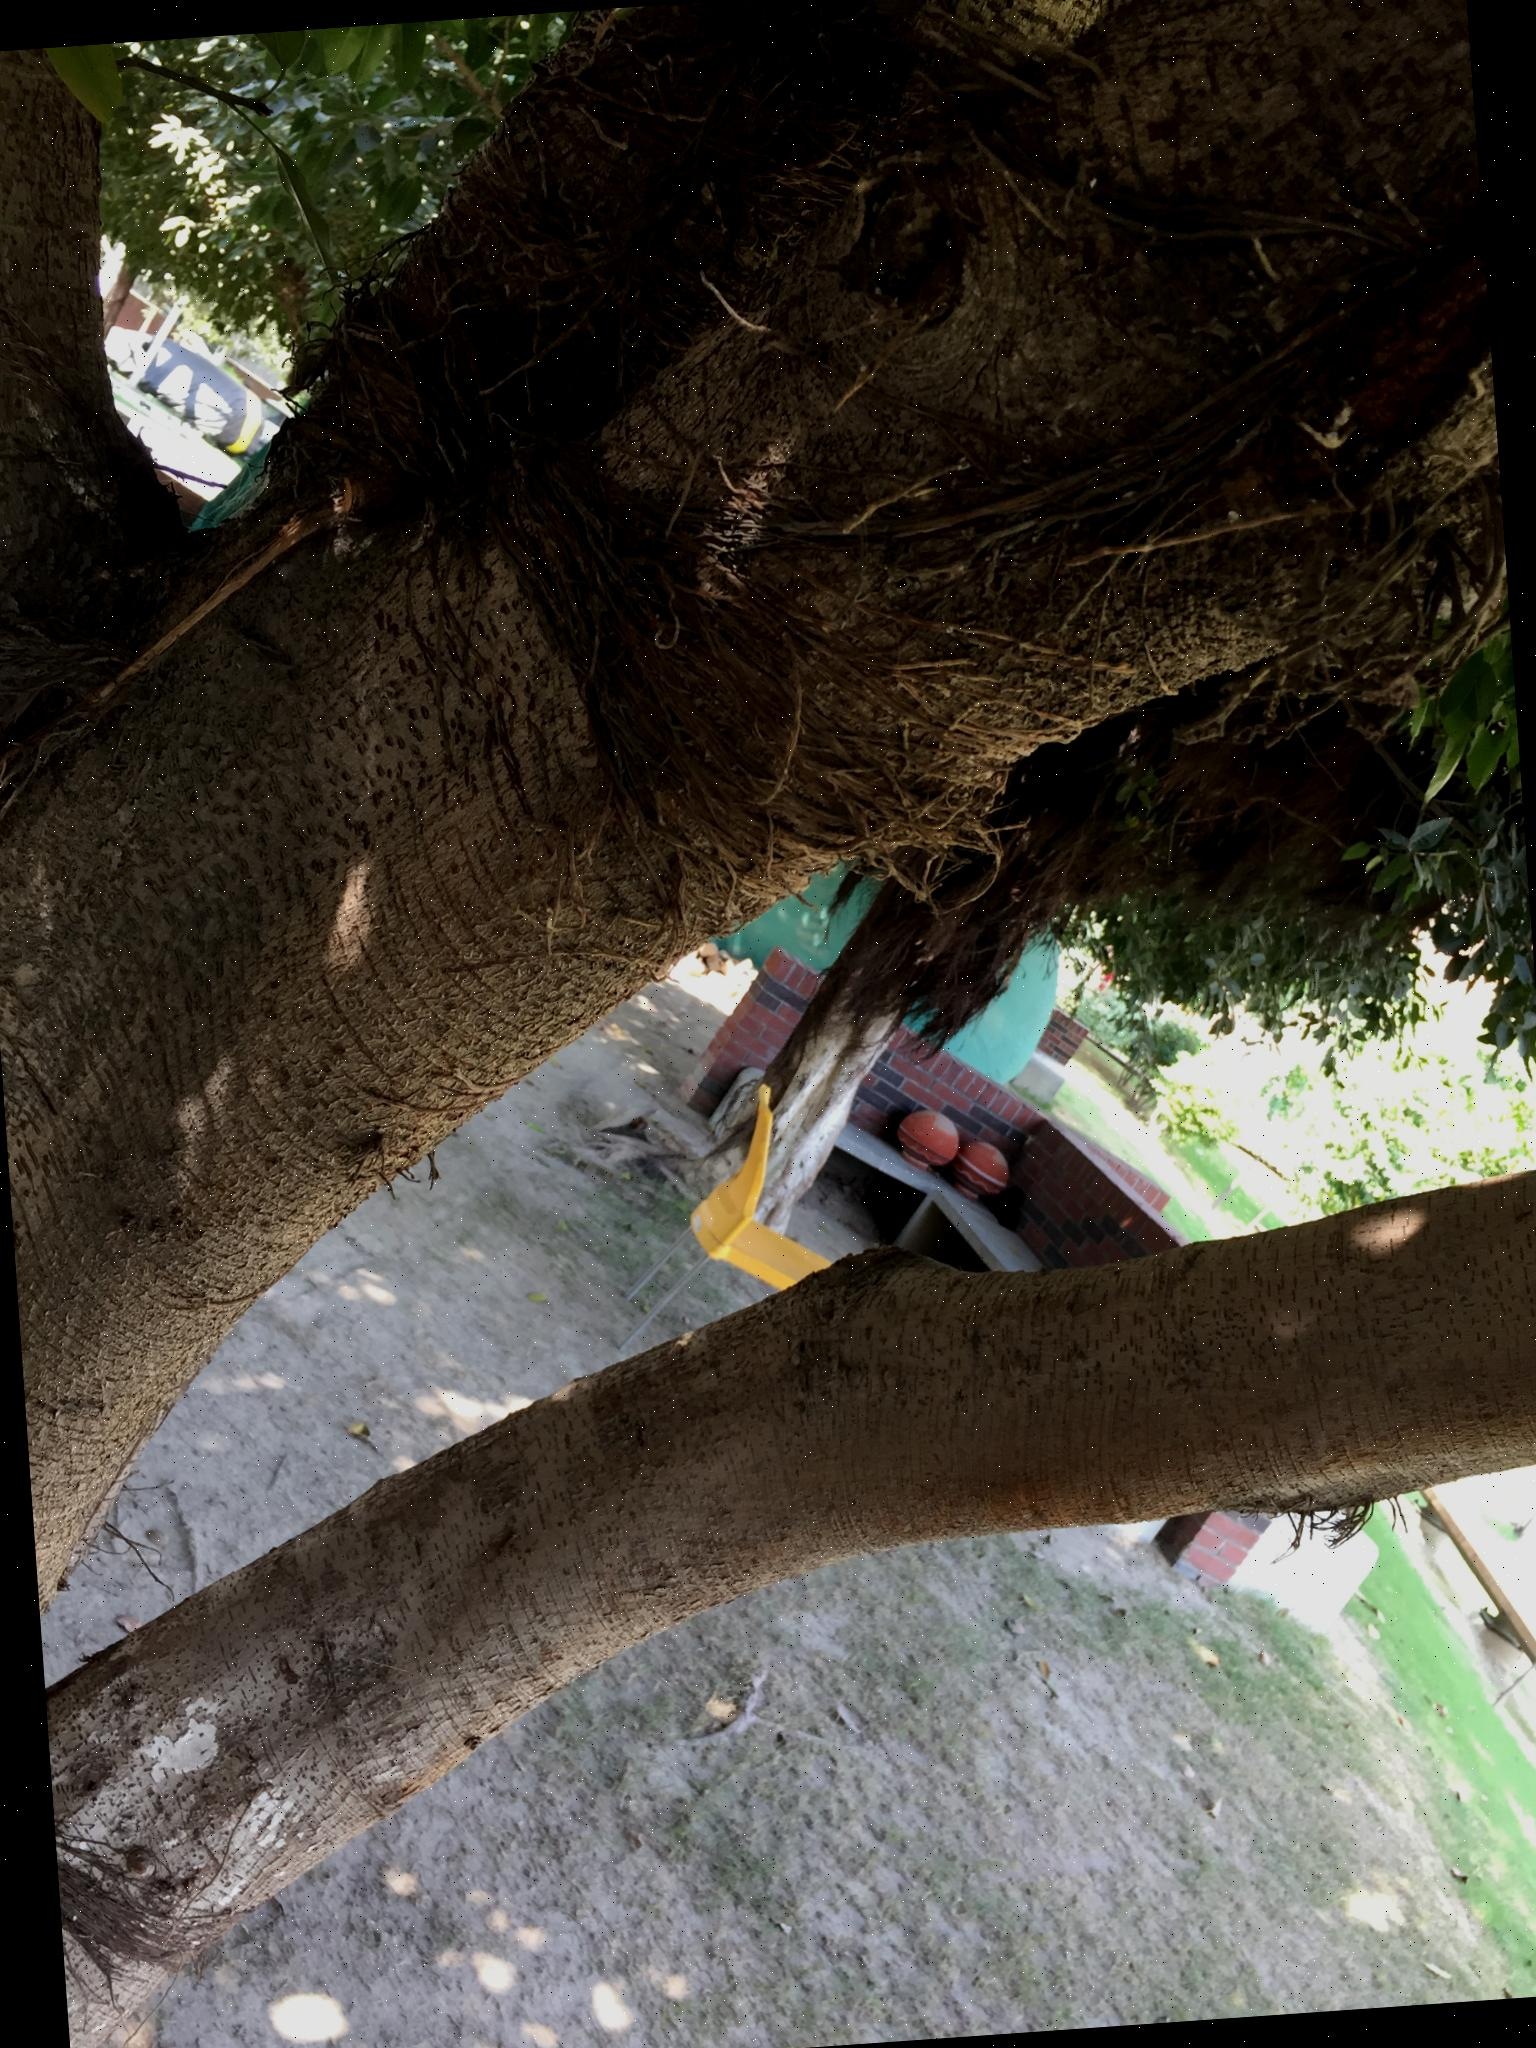chair: (678, 1079, 836, 1298)
